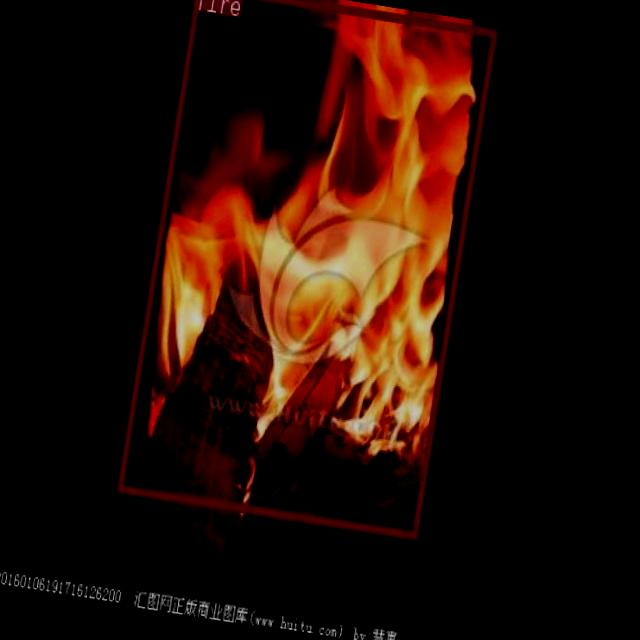fire: (115, 0, 496, 537)
